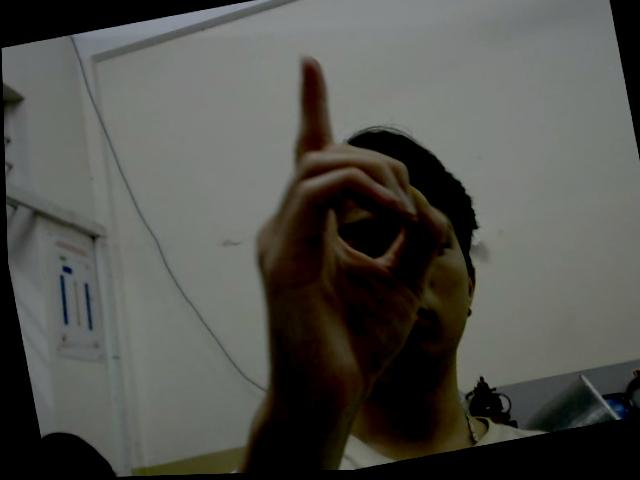D: (213, 31, 478, 428)
